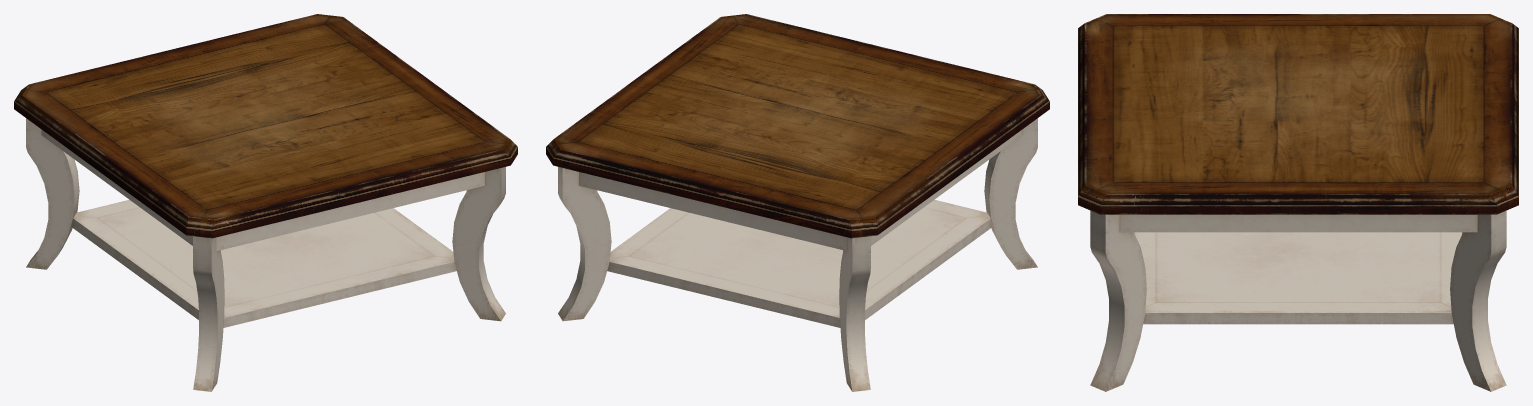
File: CoffeeTable.fbx
3 renders of one model, left to right at view 1: azimuth 30°, elevation 25°; view 2: azimuth 150°, elevation 25°; view 3: azimuth 270°, elevation 25°, orthographic. The views are drawn at different scales.
Visible parts, largest first — view 1: CofeeTable; view 2: CofeeTable; view 3: CofeeTable.
Part boxes in pixels (x1,y1,x2,y2): CofeeTable: [14, 14, 517, 391]; CofeeTable: [546, 14, 1049, 391]; CofeeTable: [1078, 14, 1518, 391].
Bounding box in the file's own units: 70 × 35 × 70.
